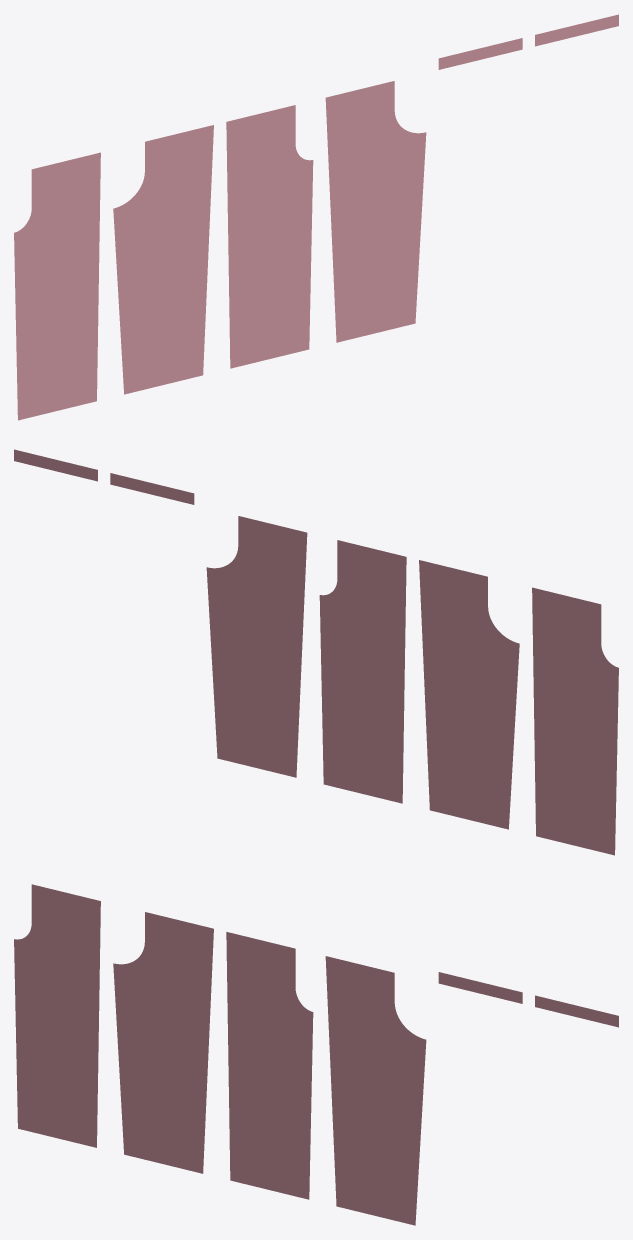
File: pantalon-sudadera-pierna-ancha-talla-M.glb
3 views of the same model, one above another, from view 1: azimuth 30°, elevation 25°; view 2: azimuth 150°, elevation 25°; view 3: azimuth 330°, elevation 25° (orthographic).
Visible parts, largest first — view 1: patron-espalda-der, patron-espalda-izq, patron-delantero-izq, patron-delantero-der, patron-pretina-delantera, patron-pretina-trasera; view 2: patron-espalda-der, patron-espalda-izq, patron-delantero-izq, patron-delantero-der, patron-pretina-delantera, patron-pretina-trasera; view 3: patron-espalda-der, patron-espalda-izq, patron-delantero-izq, patron-delantero-der, patron-pretina-delantera, patron-pretina-trasera.
Boxes of the visible parts, x1=… form: patron-espalda-der: x1=325, y1=81, x2=426, y2=342; patron-espalda-izq: x1=113, y1=125, x2=213, y2=394; patron-delantero-izq: x1=14, y1=152, x2=100, y2=420; patron-delantero-der: x1=226, y1=105, x2=313, y2=368; patron-pretina-delantera: x1=438, y1=38, x2=522, y2=69; patron-pretina-trasera: x1=535, y1=14, x2=618, y2=46; patron-espalda-der: x1=206, y1=516, x2=307, y2=777; patron-espalda-izq: x1=419, y1=560, x2=519, y2=829; patron-delantero-izq: x1=532, y1=587, x2=618, y2=855; patron-delantero-der: x1=319, y1=540, x2=406, y2=803; patron-pretina-delantera: x1=110, y1=473, x2=194, y2=504; patron-pretina-trasera: x1=14, y1=449, x2=97, y2=481; patron-espalda-der: x1=325, y1=956, x2=426, y2=1225; patron-espalda-izq: x1=113, y1=912, x2=213, y2=1173; patron-delantero-izq: x1=14, y1=884, x2=100, y2=1147; patron-delantero-der: x1=226, y1=932, x2=313, y2=1199; patron-pretina-delantera: x1=438, y1=972, x2=522, y2=1003; patron-pretina-trasera: x1=535, y1=995, x2=618, y2=1027.
Size of the model in its own units: 2.45 by 1 by 0.
